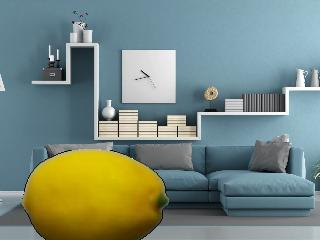lemon: (18, 147, 174, 240)
